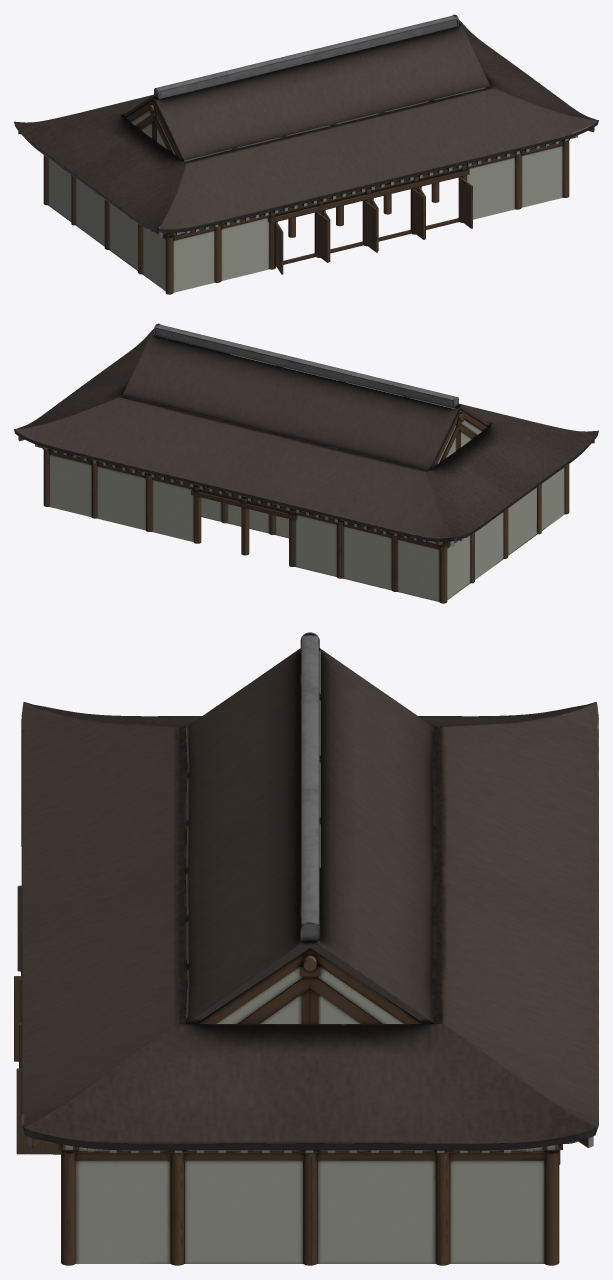
The model's file is choya.glb.
The picture shows the model from 3 angles, top to bottom: view 1: azimuth 30°, elevation 25°; view 2: azimuth 150°, elevation 25°; view 3: azimuth 270°, elevation 25°; orthographic projection. The views are drawn at different scales.
Parts seen in each view (by area): view 1: choya; view 2: choya; view 3: choya.
Boxes of the visible parts, bbox=[...] form: choya: bbox=[14, 14, 598, 294]; choya: bbox=[14, 323, 598, 603]; choya: bbox=[14, 632, 598, 1265].
Size of the model in its own units: 19.44 by 6.24 by 11.24.
1 material, 1 textured.
